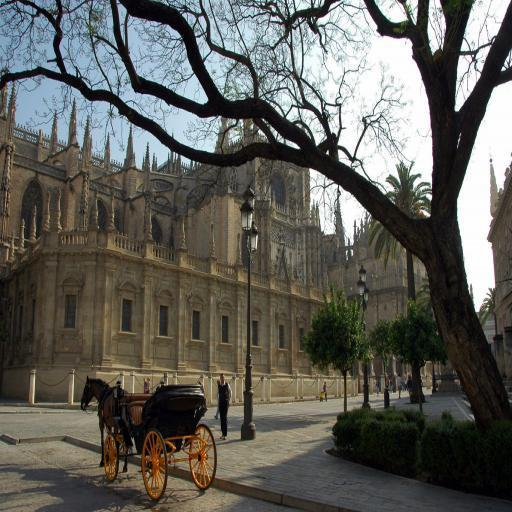horse: (80, 376, 136, 475)
